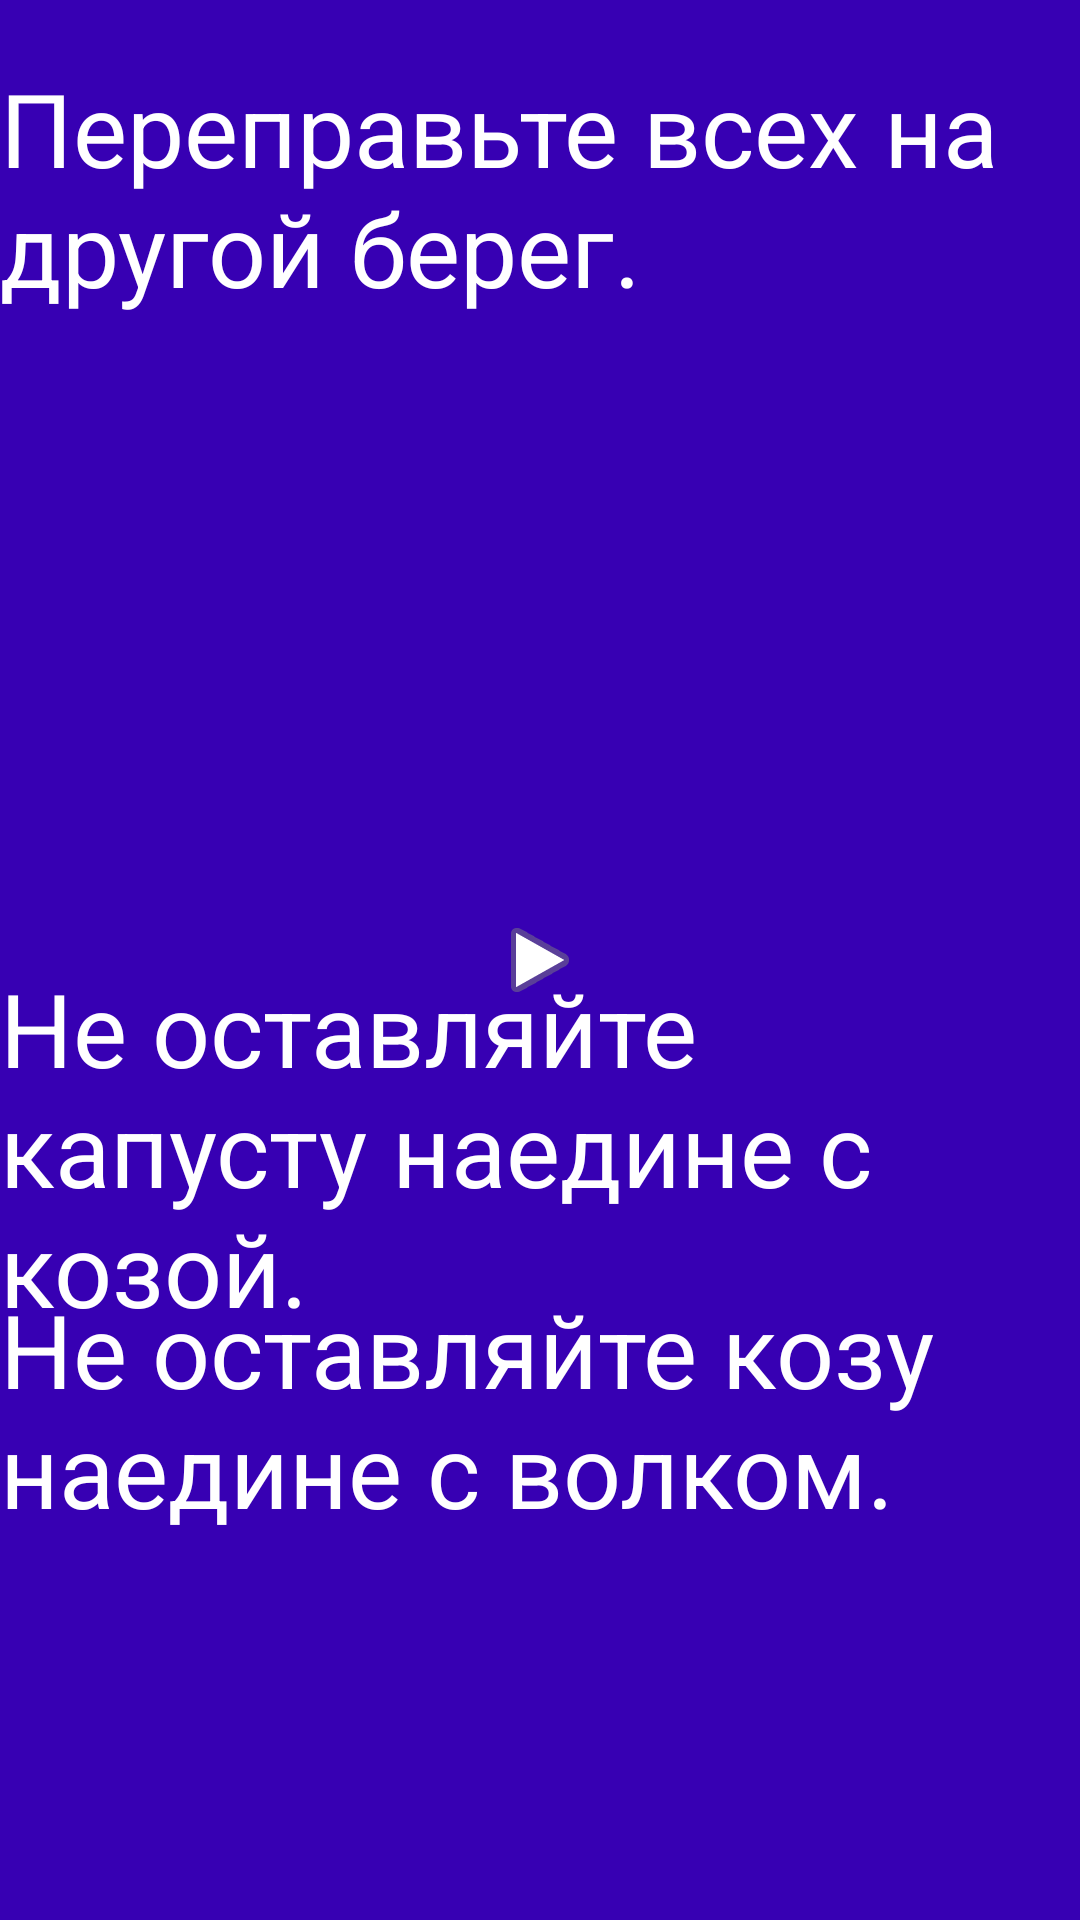

Icons on this 1080*1920 Android screen, each with the point to tap as (x=x, y=y):
play: (x=547, y=968)
